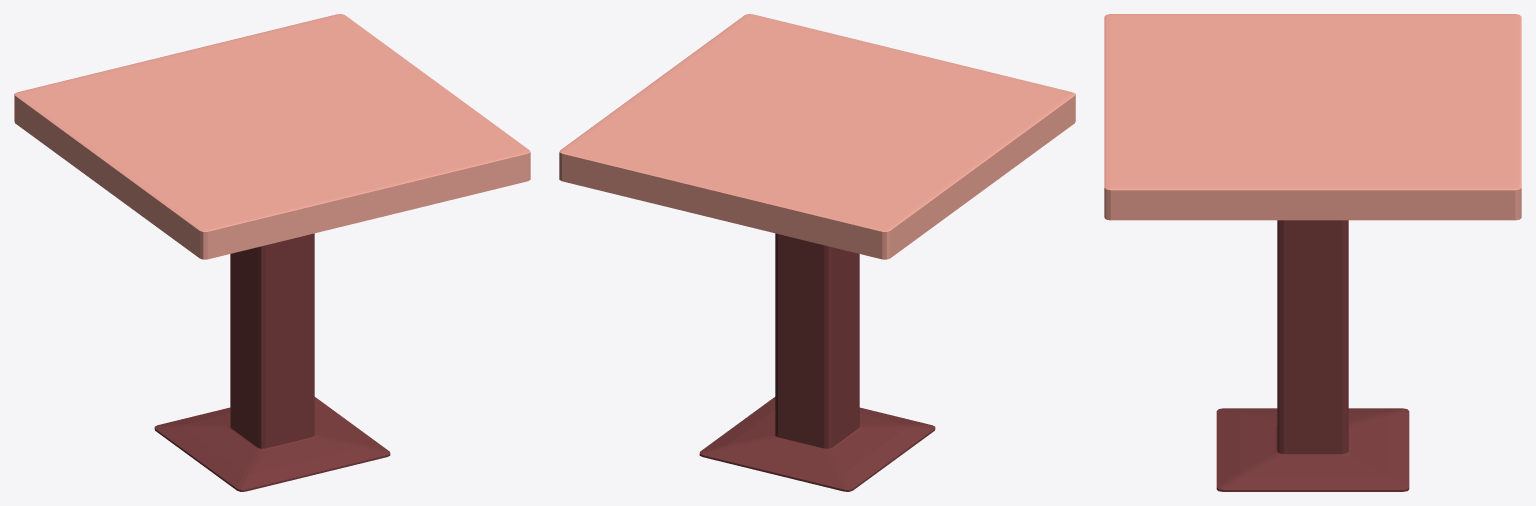
Rendered from table_1x1.fbx.
3 renders of one model, left to right at view 1: azimuth 30°, elevation 25°; view 2: azimuth 150°, elevation 25°; view 3: azimuth 270°, elevation 25°, orthographic. The views are drawn at different scales.
Parts seen in each view (by area): view 1: masa_1x1; view 2: masa_1x1; view 3: masa_1x1.
Boxes of the visible parts, x1=… form: masa_1x1: x1=14, y1=14, x2=530, y2=491; masa_1x1: x1=559, y1=14, x2=1075, y2=491; masa_1x1: x1=1104, y1=14, x2=1521, y2=491.
Size of the model in its own units: 92.19 by 86.51 by 92.19.
